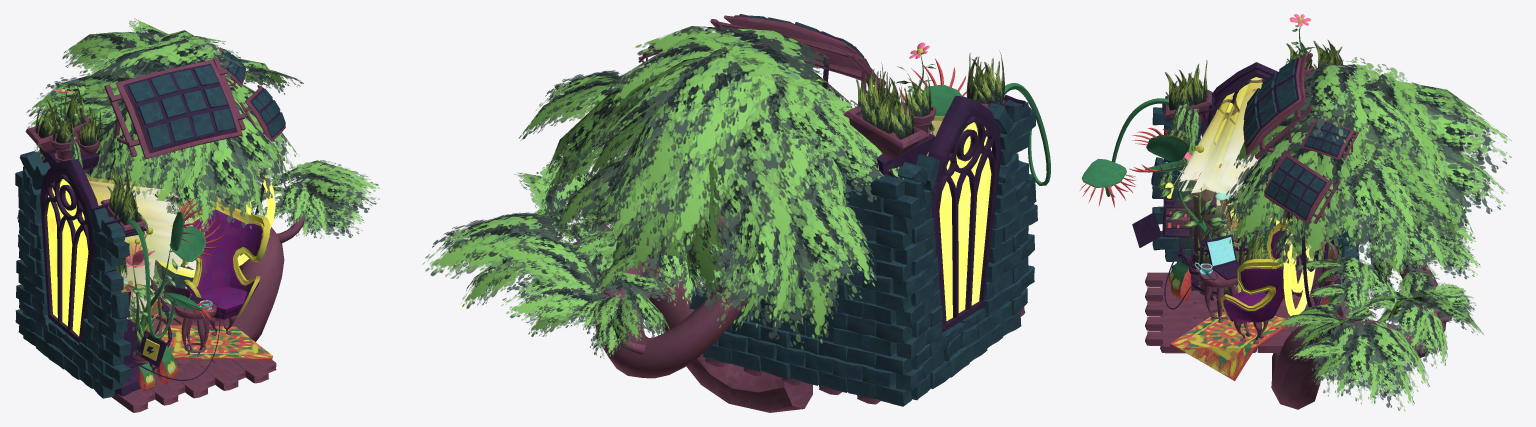
The picture shows the model from 3 angles, left to right: view 1: azimuth 30°, elevation 25°; view 2: azimuth 150°, elevation 25°; view 3: azimuth 270°, elevation 25°; orthographic projection. The views are drawn at different scales.
Parts seen in each view (by area): view 1: SM_Scene_M_Texture_0 (×2); view 2: SM_Scene_M_Texture_0 (×2); view 3: SM_Scene_M_Texture_0.
Part boxes in pixels (x1,y1,x2,y2): SM_Scene_M_Texture_0 (×2): (15,18,380,412); SM_Scene_M_Texture_0 (×2): (422,14,1050,412); SM_Scene_M_Texture_0: (1080,14,1511,410).
Bounding box in the file's own units: 6.84 × 5.9 × 7.22.
Materials: 2 (1 with a texture image).
